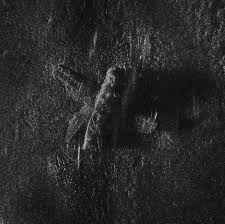plane: (49, 61, 169, 154)
